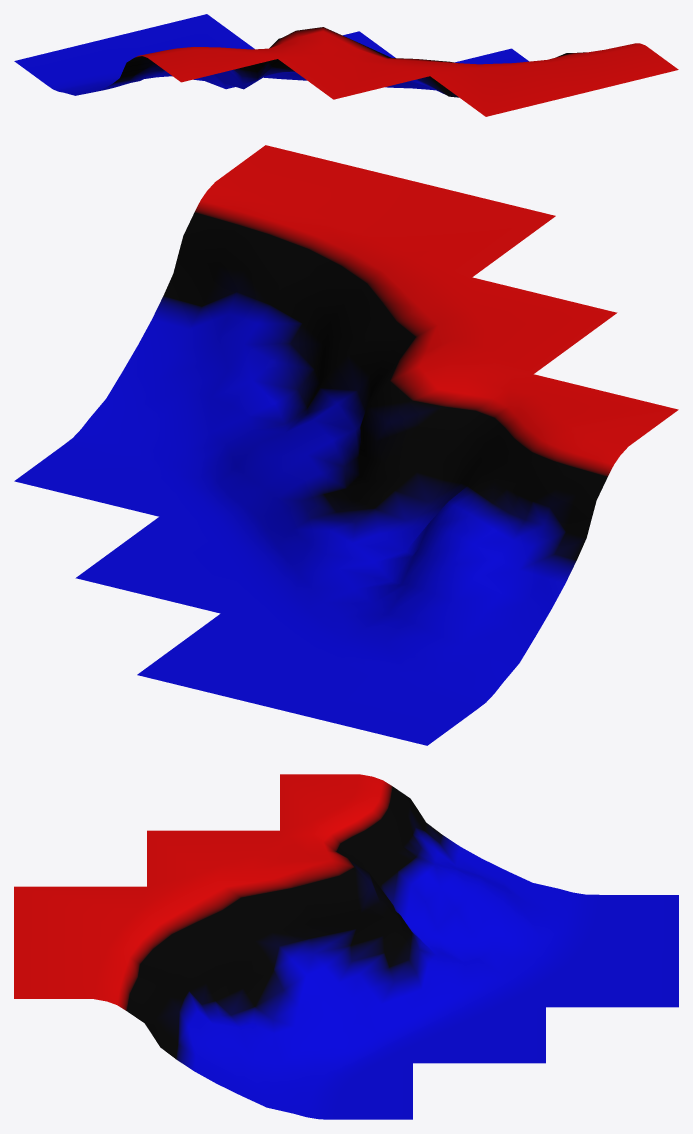
File: RiverBank03B Background.fbx
3 views of the same model, one above another, from view 1: azimuth 30°, elevation 25°; view 2: azimuth 150°, elevation 25°; view 3: azimuth 270°, elevation 25° (orthographic). The views are drawn at different scales.
Visible parts, largest first — view 1: RiverBank03B Background; view 2: RiverBank03B Background; view 3: RiverBank03B Background.
Part boxes in pixels (x1,y1,x2,y2): RiverBank03B Background: [14, 14, 678, 116]; RiverBank03B Background: [14, 145, 678, 745]; RiverBank03B Background: [14, 774, 678, 1119].
Bounding box in the file's own units: 4 × 1.01 × 5.
